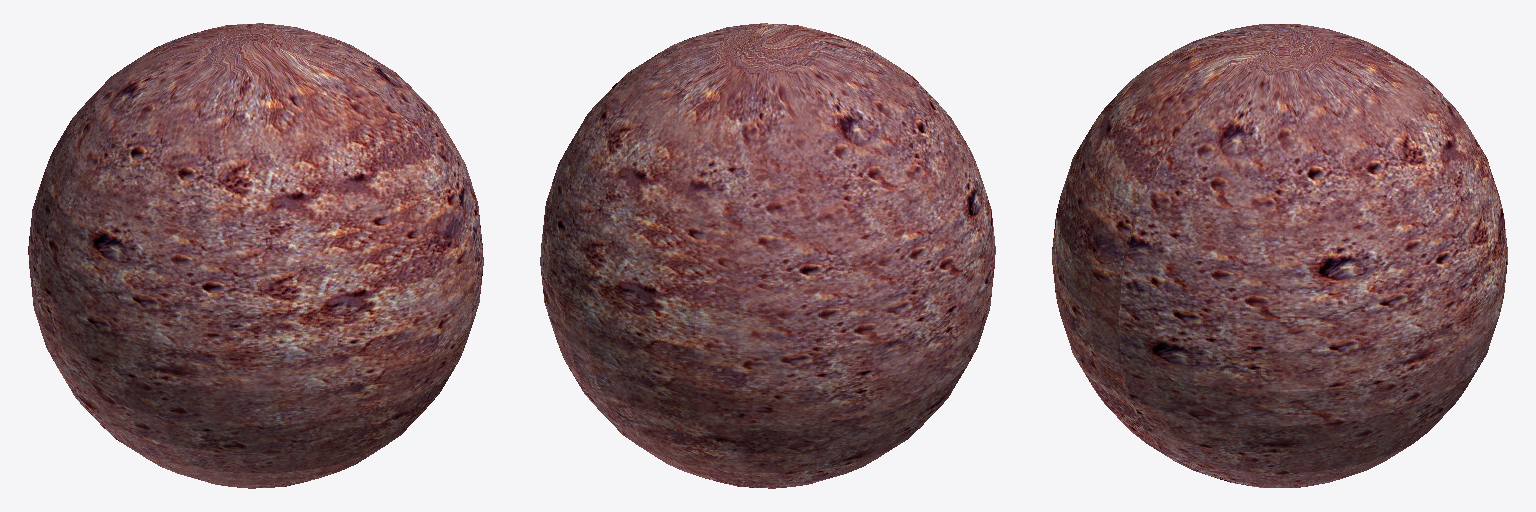
3 renders of one model, left to right at view 1: azimuth 30°, elevation 25°; view 2: azimuth 150°, elevation 25°; view 3: azimuth 270°, elevation 25°, orthographic.
Visible parts, largest first — view 1: sphere1; view 2: sphere1; view 3: sphere1.
Boxes of the visible parts, x1=… form: sphere1: x1=28, y1=23, x2=483, y2=488; sphere1: x1=540, y1=23, x2=995, y2=488; sphere1: x1=1052, y1=24, x2=1507, y2=487.
Size of the model in its own units: 3.55 by 3.66 by 3.55.
1 materials, 1 textured.